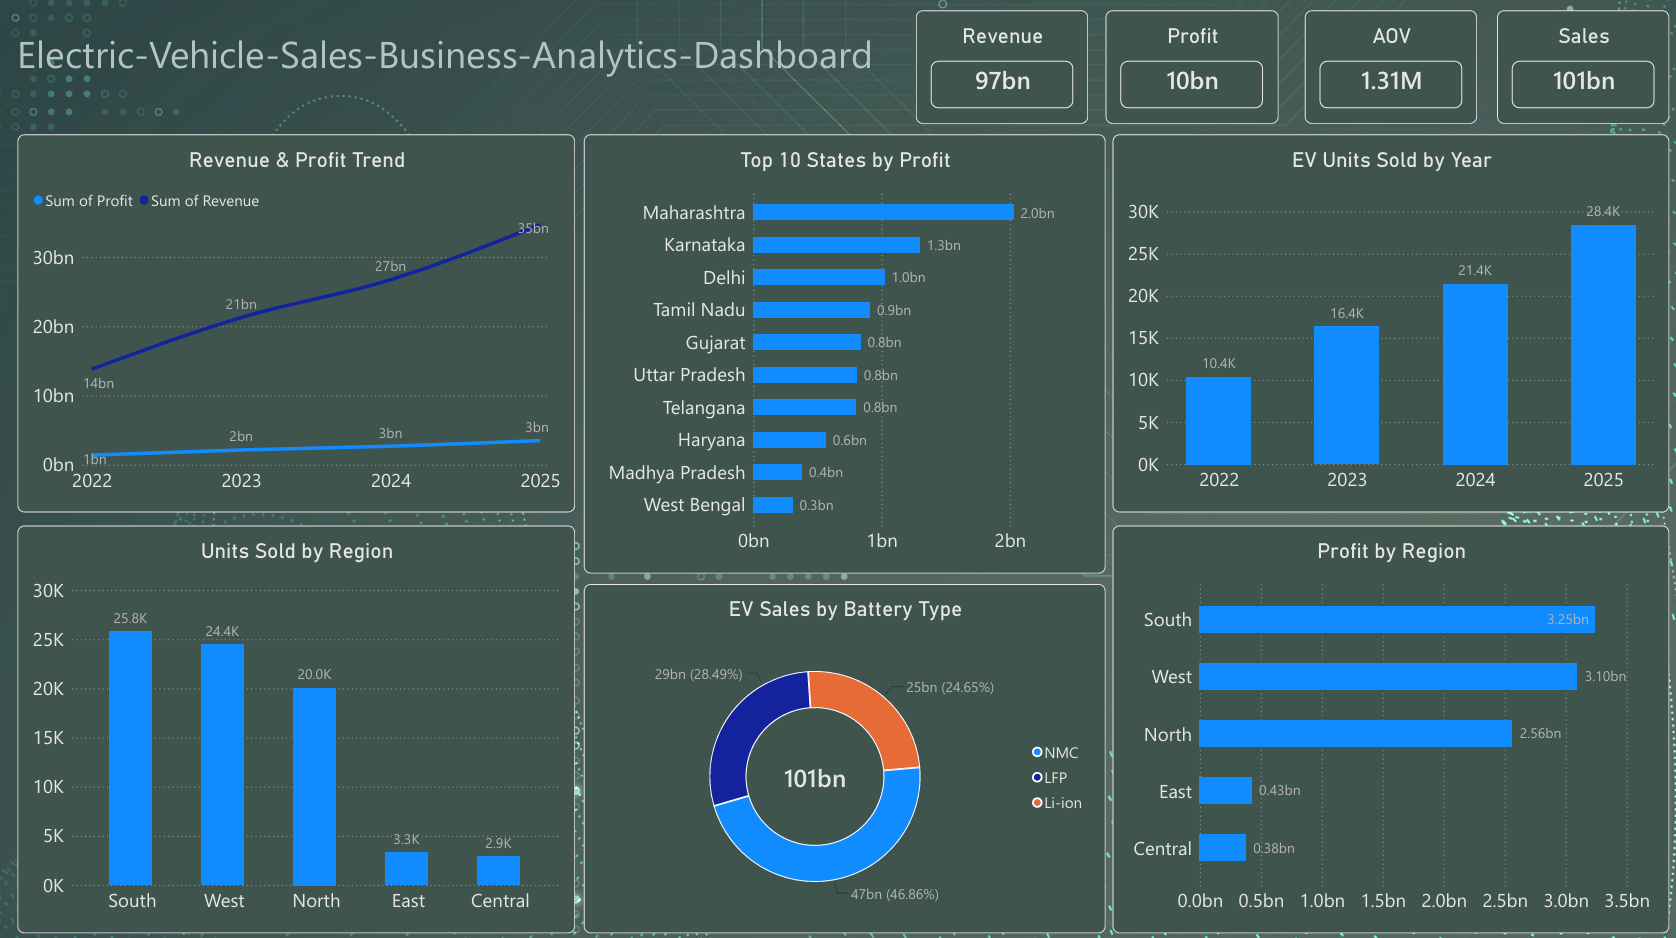

Layout of this report page (visuals, bound fields, positions):
{"tool":"powerbi","page":{"name":"Page 1","canvas":[1920,1080],"ordinal":0},"visuals":[{"type":"lineChart","title":"Revenue & Profit Trend","fields":{"Category":["EV_Sales_Processed_DataSet (2).Year"],"Y":["Sum(EV_Sales_Processed_DataSet (2).Profit)","Sum(EV_Sales_Processed_DataSet (2).Revenue)"]},"box":[20,155,637.5,432.5],"z":0},{"type":"clusteredColumnChart","title":"Units Sold by Region","fields":{"Category":["EV_Sales_Processed_DataSet (2).Region"],"Y":["Sum(EV_Sales_Processed_DataSet (2).Units_Sold)"]},"box":[20,602.5,637.5,467.5],"z":1000},{"type":"clusteredBarChart","title":"Top 10 States by Profit","fields":{"Category":["EV_Sales_Processed_DataSet (2).State"],"Y":["Sum(EV_Sales_Processed_DataSet (2).Profit)"]},"box":[667.5,155,597.5,502.5],"z":2000},{"type":"donutChart","title":"EV Sales by Battery Type","fields":{"Category":["EV_Sales_Processed_DataSet (2).Battery_Type"],"Y":["Sum(EV_Sales_Processed_DataSet (2).Sales_Amount)"]},"box":[667.5,670,597.5,400],"z":3000},{"type":"clusteredColumnChart","title":"EV Units Sold by Year","fields":{"Category":["EV_Sales_Processed_DataSet (2).Year"],"Y":["Sum(EV_Sales_Processed_DataSet (2).Units_Sold)"]},"box":[1272.5,155,637.5,432.5],"z":4000},{"type":"clusteredBarChart","title":"Profit by Region","fields":{"Category":["EV_Sales_Processed_DataSet (2).Region"],"Y":["Sum(EV_Sales_Processed_DataSet (2).Profit)"]},"box":[1272.5,602.5,637.5,467.5],"z":5000},{"type":"cardVisual","title":"Sales","fields":{"Data":["Sum(EV_Sales_Processed_DataSet (2).Sales_Amount)"]},"box":[1712.5,12.5,197.5,130],"z":5001},{"type":"cardVisual","title":"Profit","fields":{"Data":["Sum(EV_Sales_Processed_DataSet (2).Profit)"]},"box":[1265,12.5,197.5,130],"z":5002},{"type":"cardVisual","title":"AOV","fields":{"Data":["EV_Sales_Processed_DataSet (2).AOV"]},"box":[1492.5,12.5,197.5,130],"z":5003},{"type":"cardVisual","title":"Revenue","fields":{"Data":["Sum(EV_Sales_Processed_DataSet (2).Revenue)"]},"box":[1047.5,12.5,197.5,130],"z":5004},{"type":"textbox","box":[19.9,32.6,995.3,95.9],"z":5005}]}

Visuals, with their boxes in screenshot pixels (x1, y1, x2, y2), scaled from the page's 1920x1080 canvas onto the 1676x938 screenshot:
"Revenue & Profit Trend" lineChart: (left=17, top=135, right=574, bottom=510)
"Units Sold by Region" clusteredColumnChart: (left=17, top=523, right=574, bottom=929)
"Top 10 States by Profit" clusteredBarChart: (left=583, top=135, right=1104, bottom=571)
"EV Sales by Battery Type" donutChart: (left=583, top=582, right=1104, bottom=929)
"EV Units Sold by Year" clusteredColumnChart: (left=1111, top=135, right=1667, bottom=510)
"Profit by Region" clusteredBarChart: (left=1111, top=523, right=1667, bottom=929)
"Sales" cardVisual: (left=1495, top=11, right=1667, bottom=124)
"Profit" cardVisual: (left=1104, top=11, right=1277, bottom=124)
"AOV" cardVisual: (left=1303, top=11, right=1475, bottom=124)
"Revenue" cardVisual: (left=914, top=11, right=1087, bottom=124)
textbox: (left=17, top=28, right=886, bottom=112)
